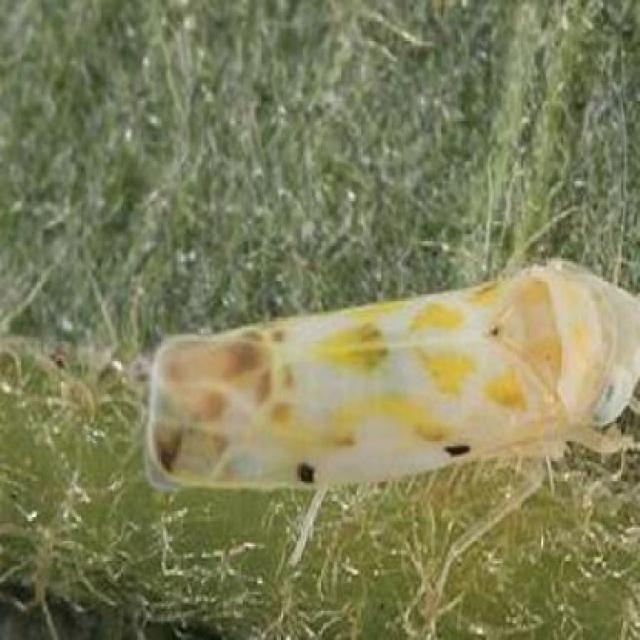green-leafhopper: (147, 266, 638, 508)
